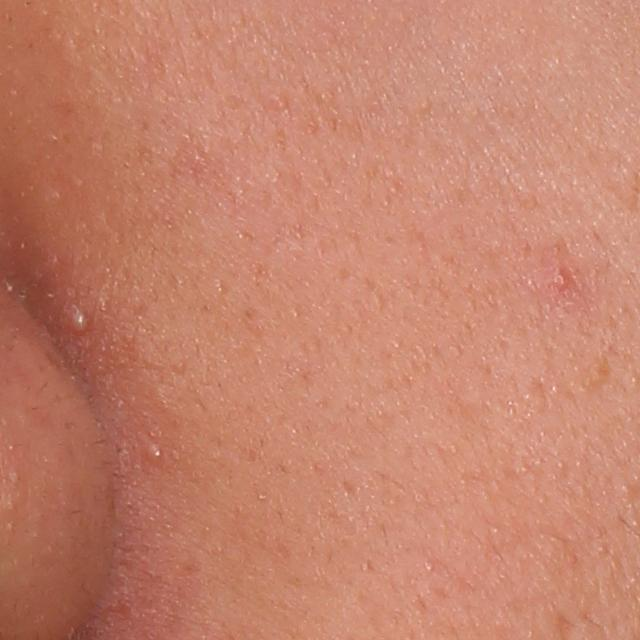comedo: (147, 447, 163, 463)
papule: (545, 262, 574, 291)
pustule: (69, 310, 90, 335)
